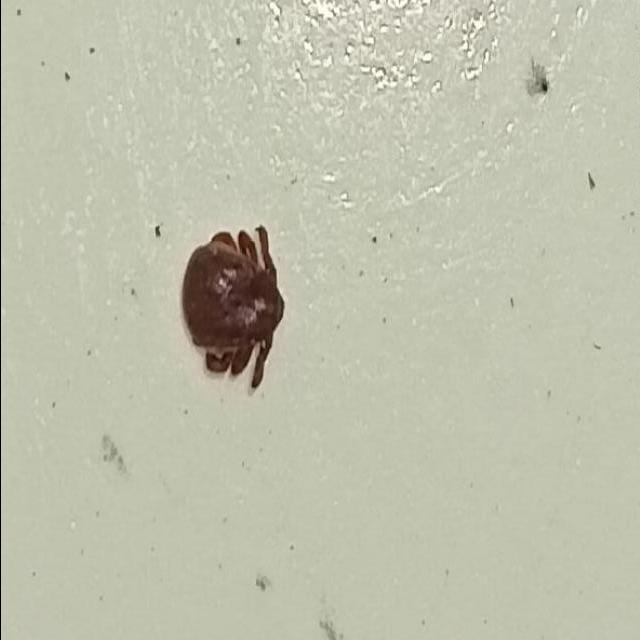Rhipicephalus Sanguineus-M: (181, 226, 286, 391)
